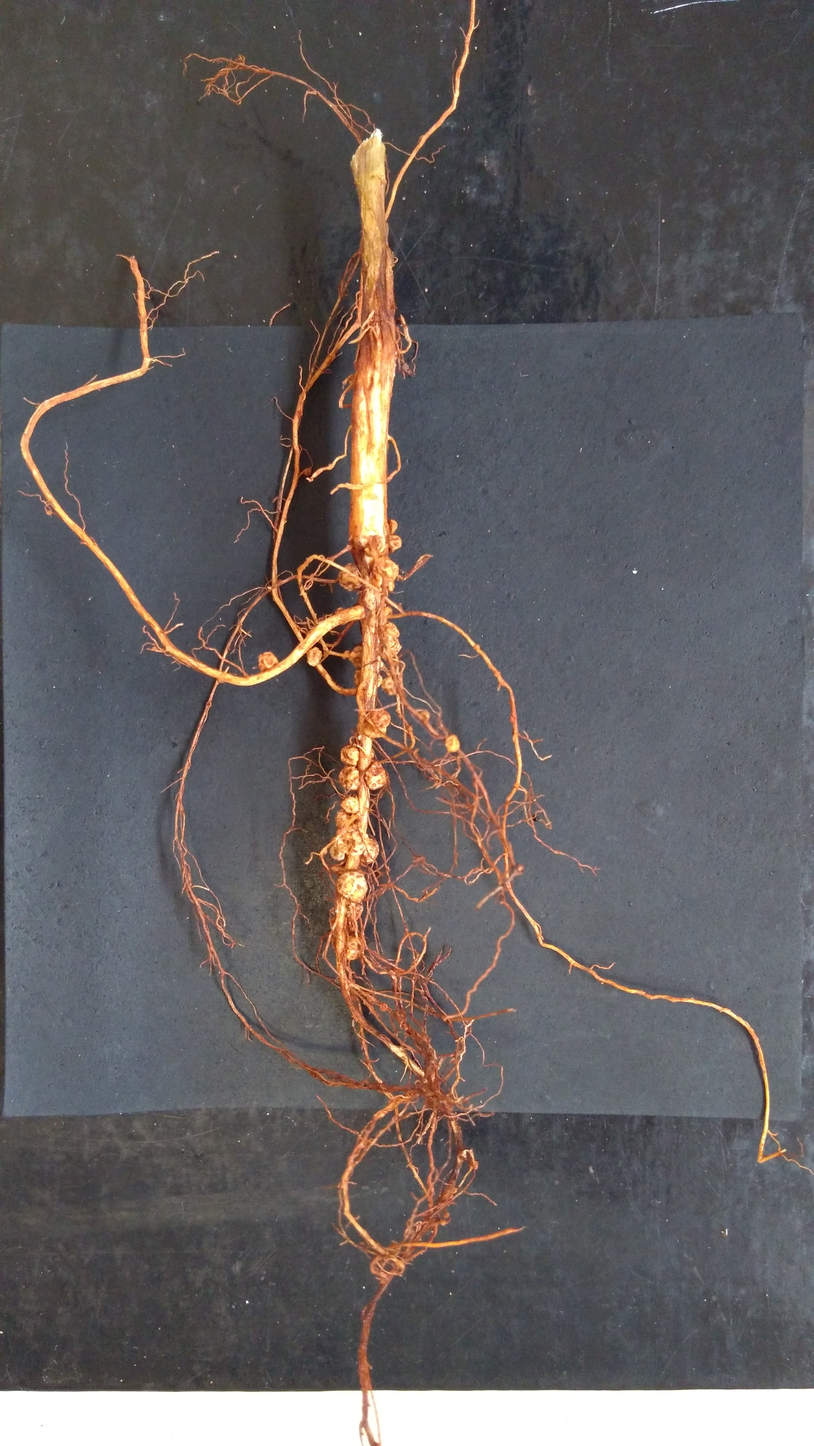nodule: (332, 870, 370, 905), (370, 555, 400, 592), (360, 706, 390, 741), (379, 622, 404, 662), (336, 561, 362, 594), (328, 900, 365, 923), (363, 760, 388, 792), (360, 832, 382, 867), (336, 764, 359, 793), (255, 650, 282, 672), (362, 534, 385, 558), (327, 837, 349, 862), (338, 744, 360, 768), (344, 935, 363, 962), (443, 733, 464, 756), (332, 809, 352, 831), (305, 646, 323, 670), (340, 794, 360, 815), (378, 675, 397, 697), (349, 644, 363, 669), (387, 534, 403, 555), (413, 708, 431, 726), (352, 668, 366, 689), (388, 518, 399, 534), (376, 673, 383, 689), (378, 1002, 388, 1013)
